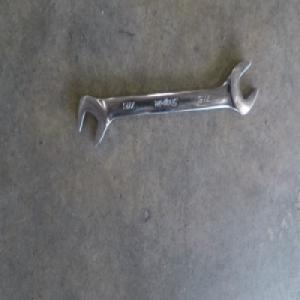Wrench: (77, 60, 256, 150)
